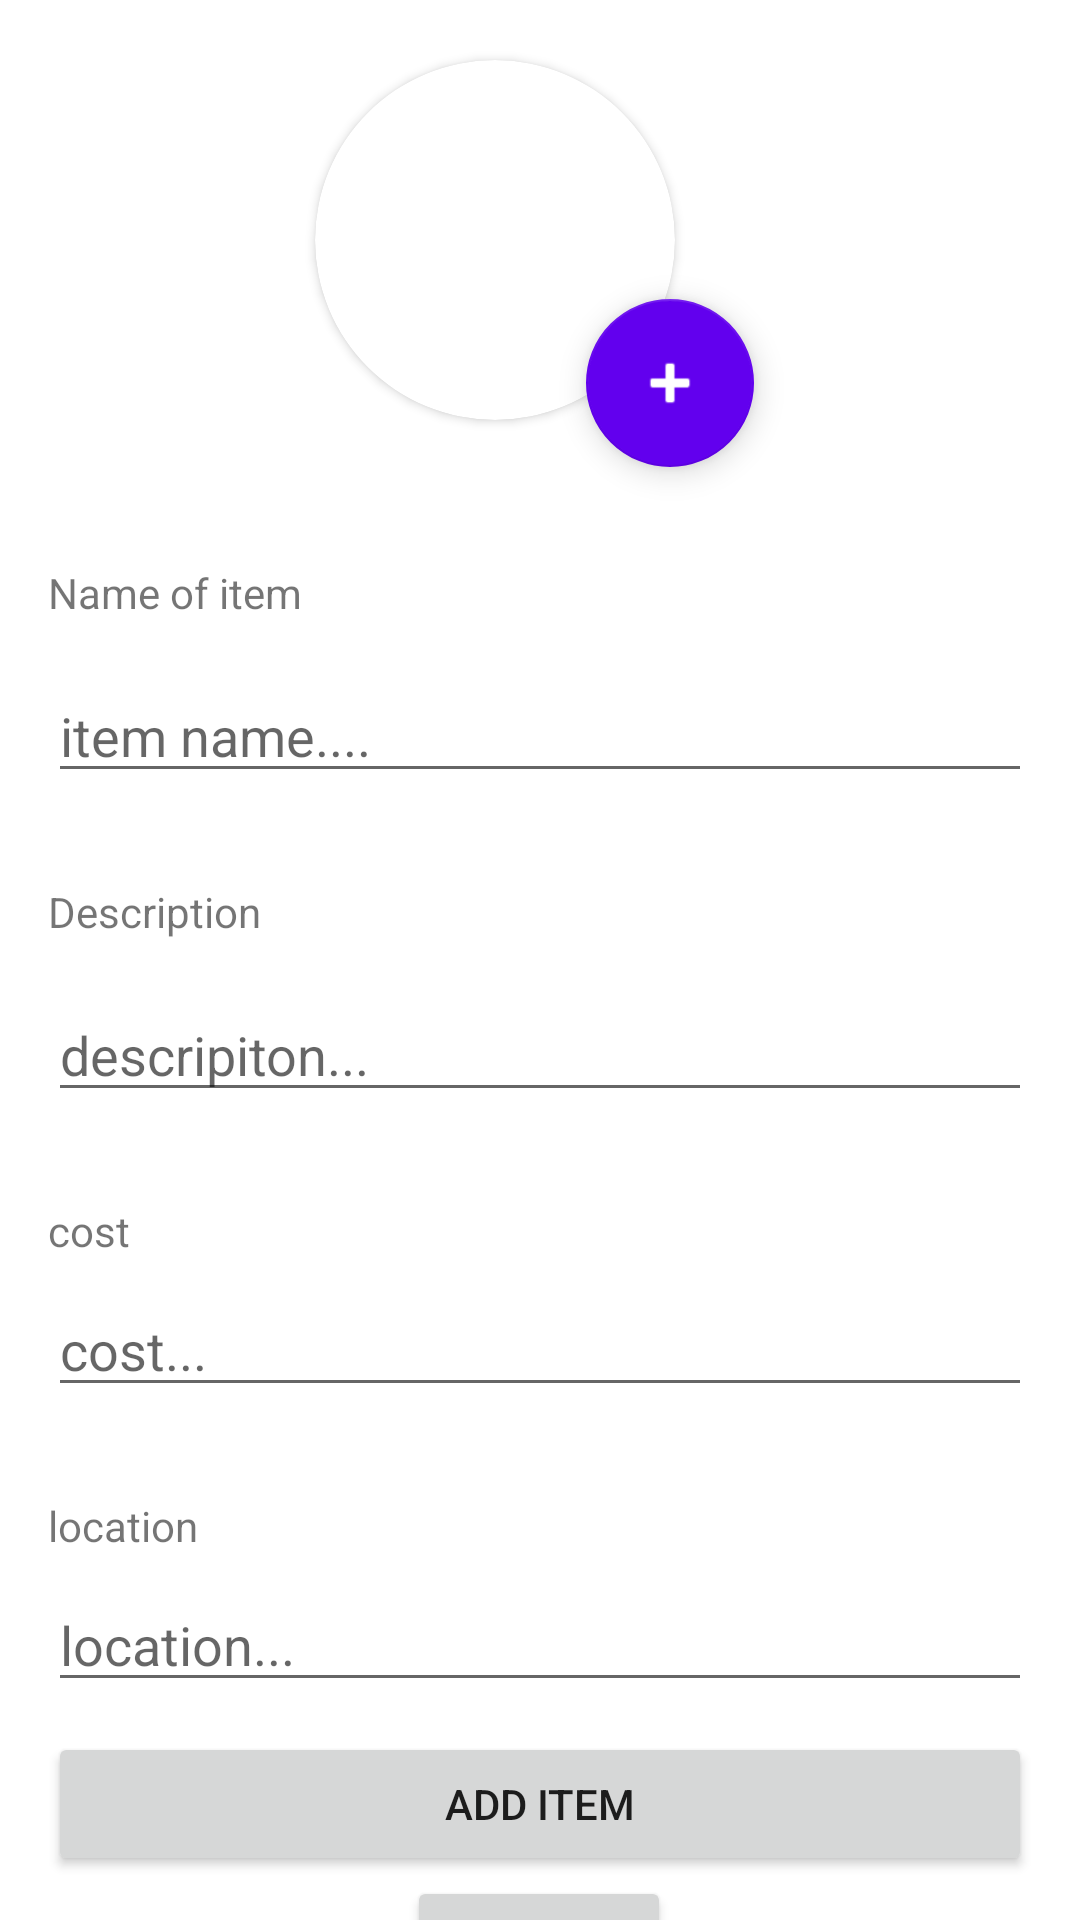

Point at icon controls on the screen. Image size 1080 × 1920, points as point (x, y).
add: point (670, 383)
